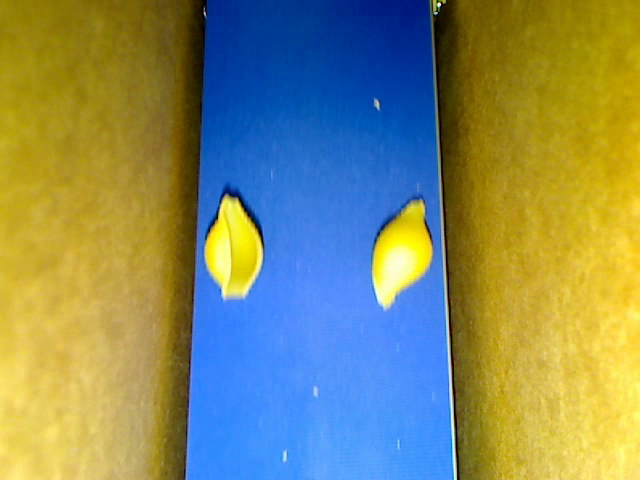shell: (370, 196, 433, 311), (203, 193, 263, 303)
